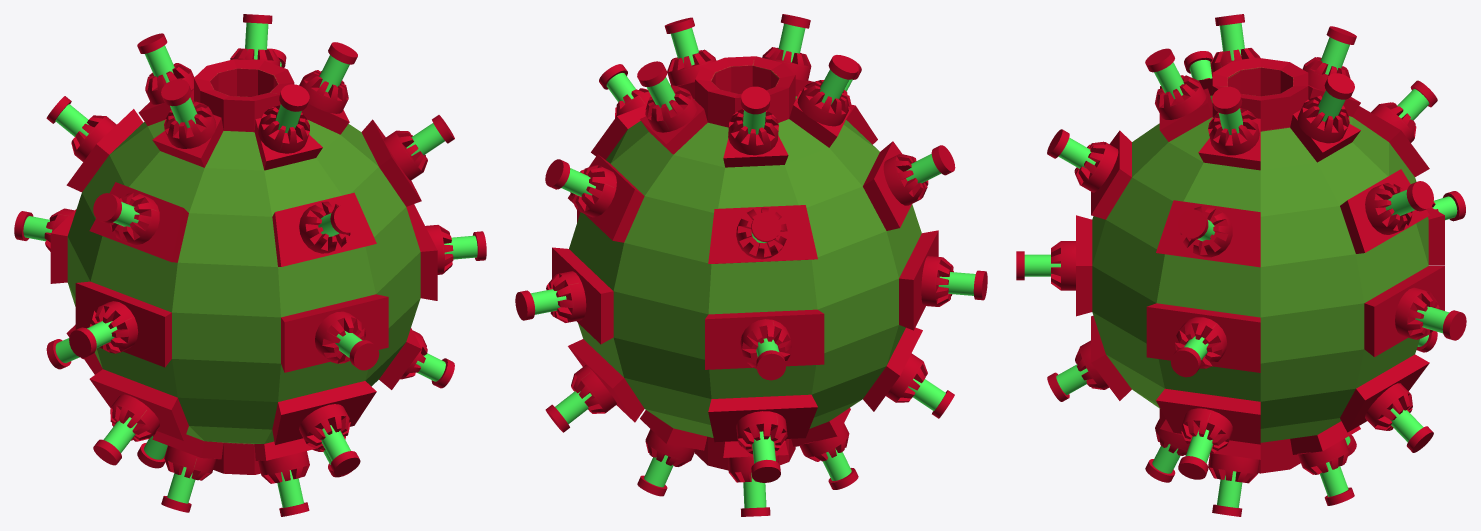
File: Space_Mine.fbx
3 views of the same model, side by side, from view 1: azimuth 30°, elevation 25°; view 2: azimuth 150°, elevation 25°; view 3: azimuth 270°, elevation 25° (orthographic).
Visible parts, largest first — view 1: Mine_Whole1; view 2: Mine_Whole1; view 3: Mine_Whole1.
Boxes of the visible parts, x1,y1,x2,y2 form: Mine_Whole1: (14,14,486,516); Mine_Whole1: (515,14,987,516); Mine_Whole1: (1016,14,1466,516).
Bounding box in the file's own units: 2.65 × 2.65 × 2.52.
1 material, 1 textured.
